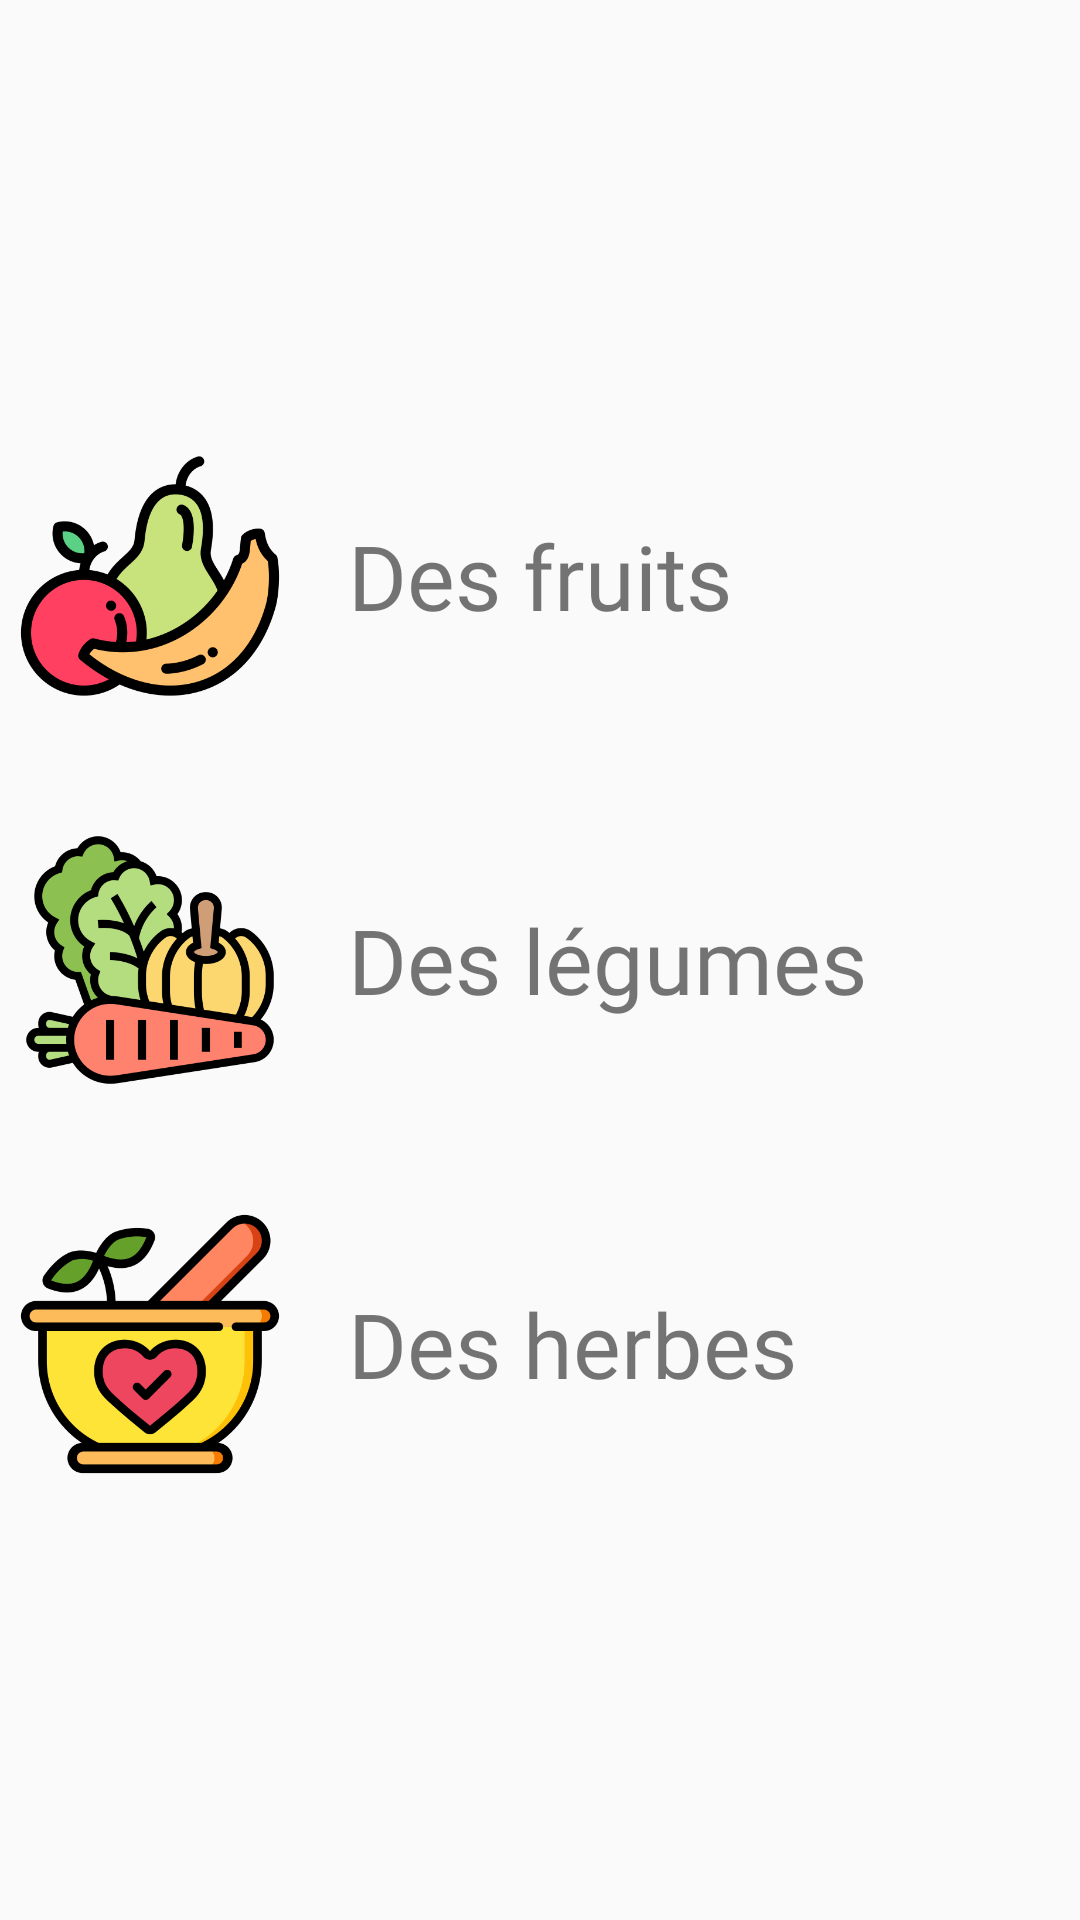

Locate icon controls on the screen. Image size 1080w x 1920h, boxes as [x1, y1, x2, y2].
fruitscolor: [21, 456, 279, 696]
herbscolorok: [21, 1215, 279, 1473]
vegetablecolor: [26, 836, 274, 1084]
